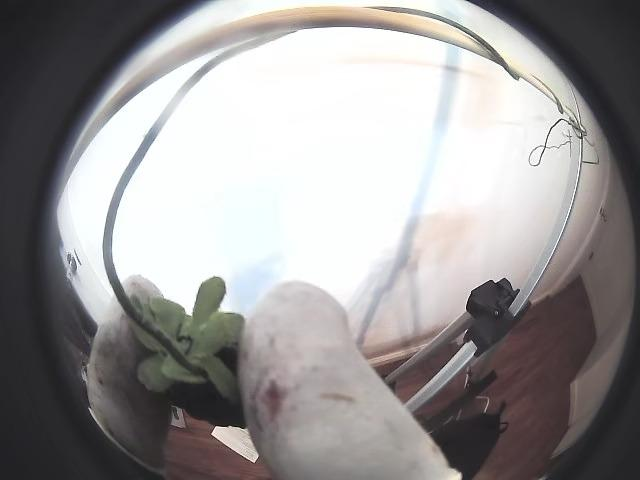berry: (132, 277, 244, 427)
gripper: (238, 281, 460, 479), (86, 297, 170, 472), (122, 275, 161, 300)
lense: (0, 0, 211, 479), (470, 0, 639, 479)
